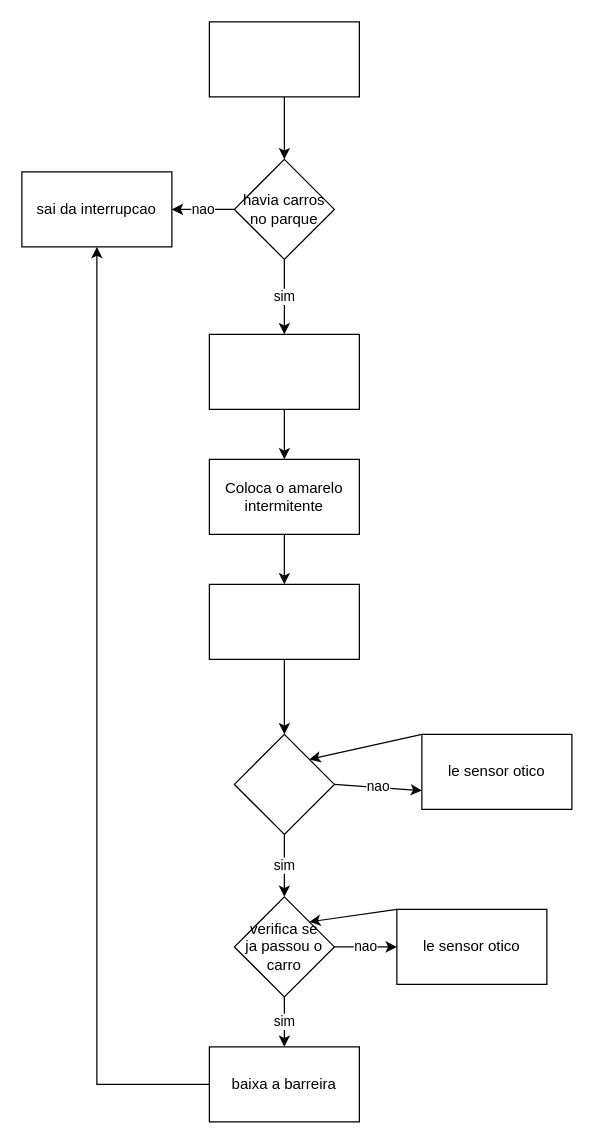
Image size: 594x1144. Some labels were removed from this diagram. The box of each missing label's shape, as (x1, y1, x2, y2) in pixels:
inicia uma contagem de 10 seg: (208, 583, 359, 659)
interrupcao 1 (botao 1): (208, 21, 359, 97)
ja passou 10 seg: (233, 733, 334, 834)
levanta a berreira: (208, 333, 359, 409)
